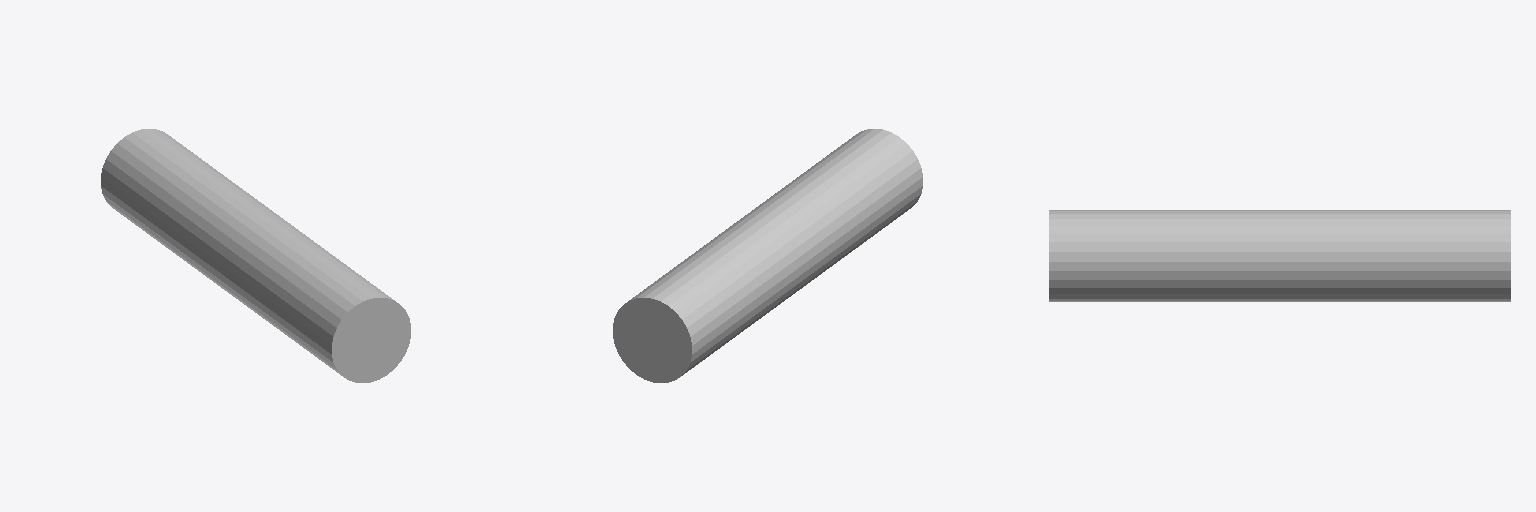
Rendered from laser.obj.
3 renders of one model, left to right at view 1: azimuth 30°, elevation 25°; view 2: azimuth 150°, elevation 25°; view 3: azimuth 270°, elevation 25°, orthographic.
Visible parts, largest first — view 1: Laser; view 2: Laser; view 3: Laser.
Boxes of the visible parts, <box> form: Laser: <box>101,129,410,382</box>; Laser: <box>613,129,922,382</box>; Laser: <box>1049,210,1510,301</box>.
Bounding box in the file's own units: 0.0995 × 0.1 × 0.5.